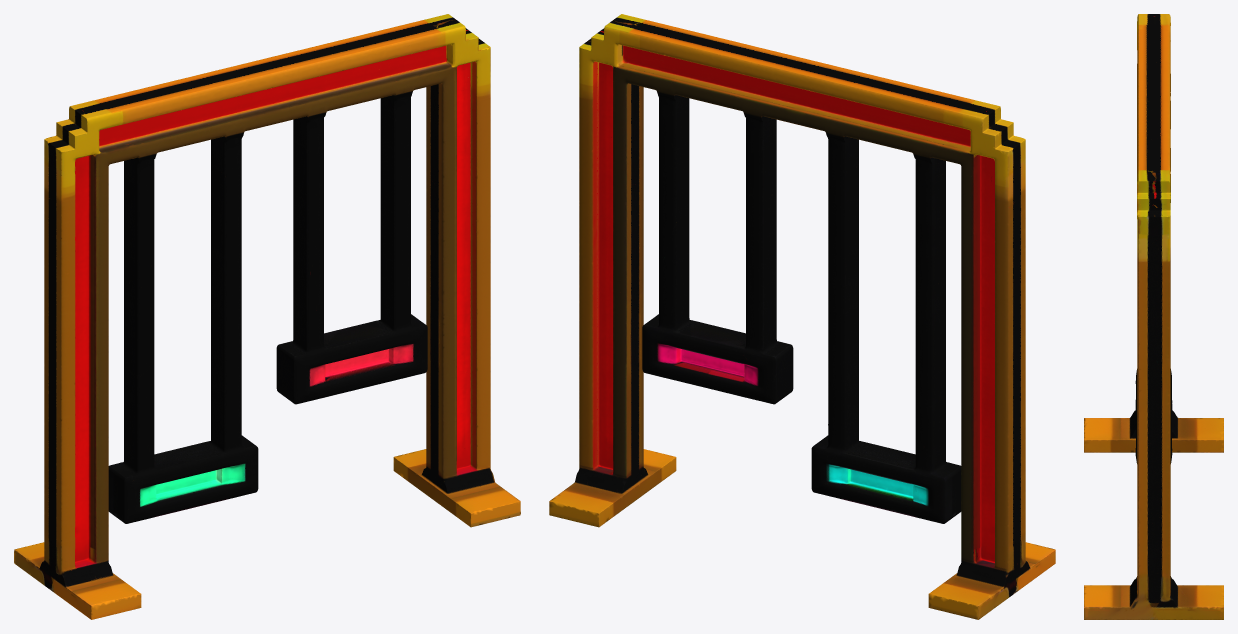
The model's file is Columpio.glb.
The picture shows the model from 3 angles, left to right: view 1: azimuth 30°, elevation 25°; view 2: azimuth 150°, elevation 25°; view 3: azimuth 270°, elevation 25°; orthographic projection. The views are drawn at different scales.
Parts seen in each view (by area): view 1: Mesh_0; view 2: Mesh_0; view 3: Mesh_0.
Part boxes in pixels (x1,y1,x2,y2): Mesh_0: (14, 14, 520, 619); Mesh_0: (549, 14, 1055, 619); Mesh_0: (1084, 14, 1223, 619).
Size of the model in its own units: 2.85 by 3 by 0.8882.
Materials: 1 (1 with a texture image).
